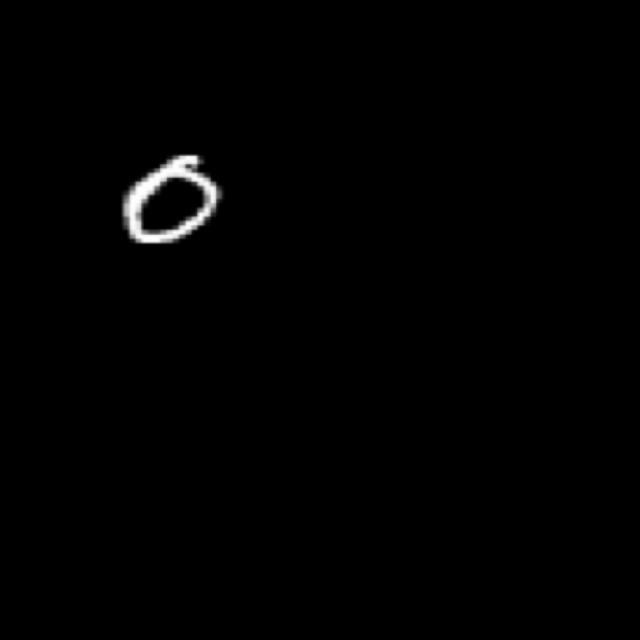zero -0-: (100, 137, 238, 274)
